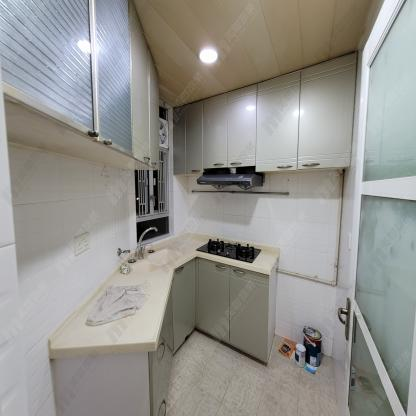Cupboard: (172, 52, 358, 174), (175, 256, 274, 362)
Exhaust Hood: (195, 171, 264, 190)
Faucet: (134, 223, 158, 257)
Sink: (146, 246, 182, 267)
Stove: (196, 237, 261, 263)
